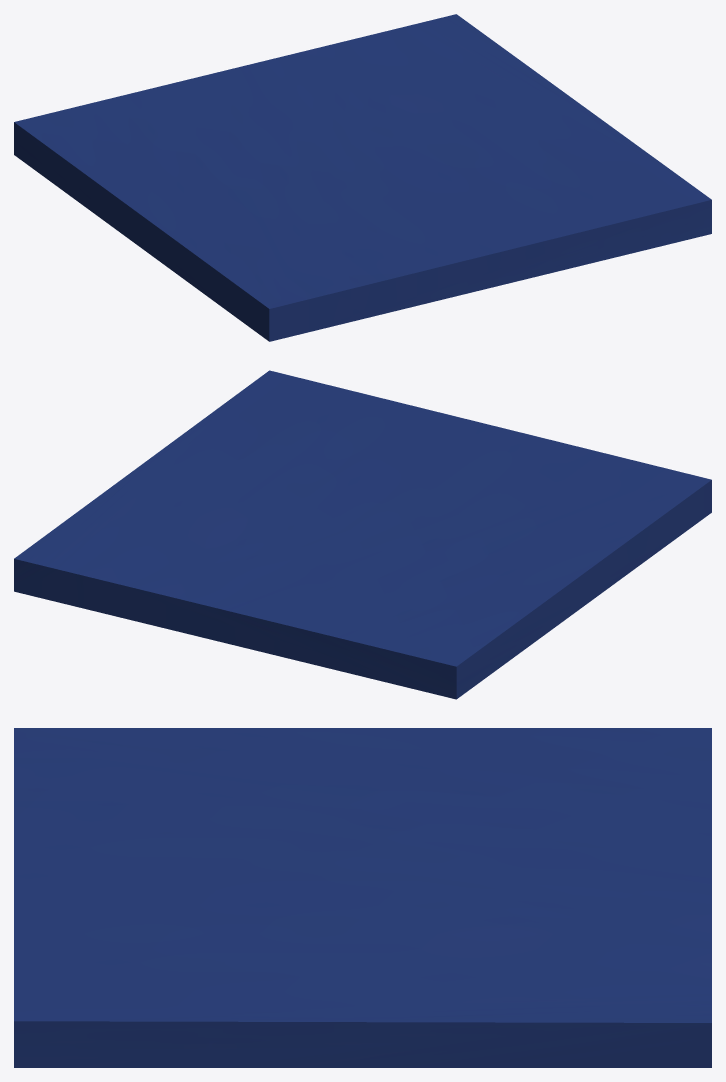
File: hole5.fbx
3 renders of one model, top to bottom at view 1: azimuth 30°, elevation 25°; view 2: azimuth 150°, elevation 25°; view 3: azimuth 270°, elevation 25°, orthographic. The views are drawn at different scales.
Parts seen in each view (by area): view 1: pCube198; view 2: pCube198; view 3: pCube198.
Part boxes in pixels (x1,y1,x2,y2): pCube198: (14, 14, 711, 341); pCube198: (14, 370, 711, 699); pCube198: (14, 728, 711, 1067).
Bounding box in the file's own units: 100 × 7.38 × 100.
